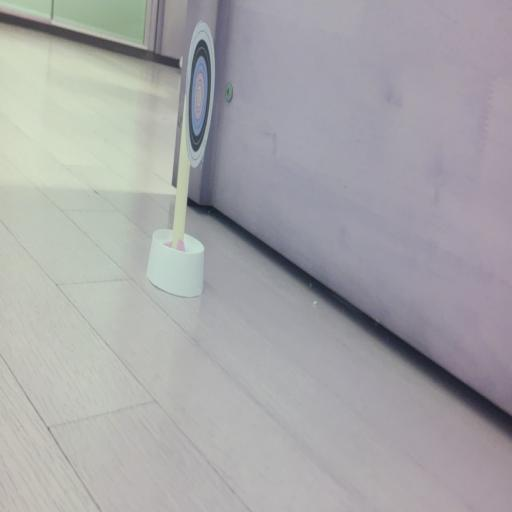target: (183, 21, 214, 167)
